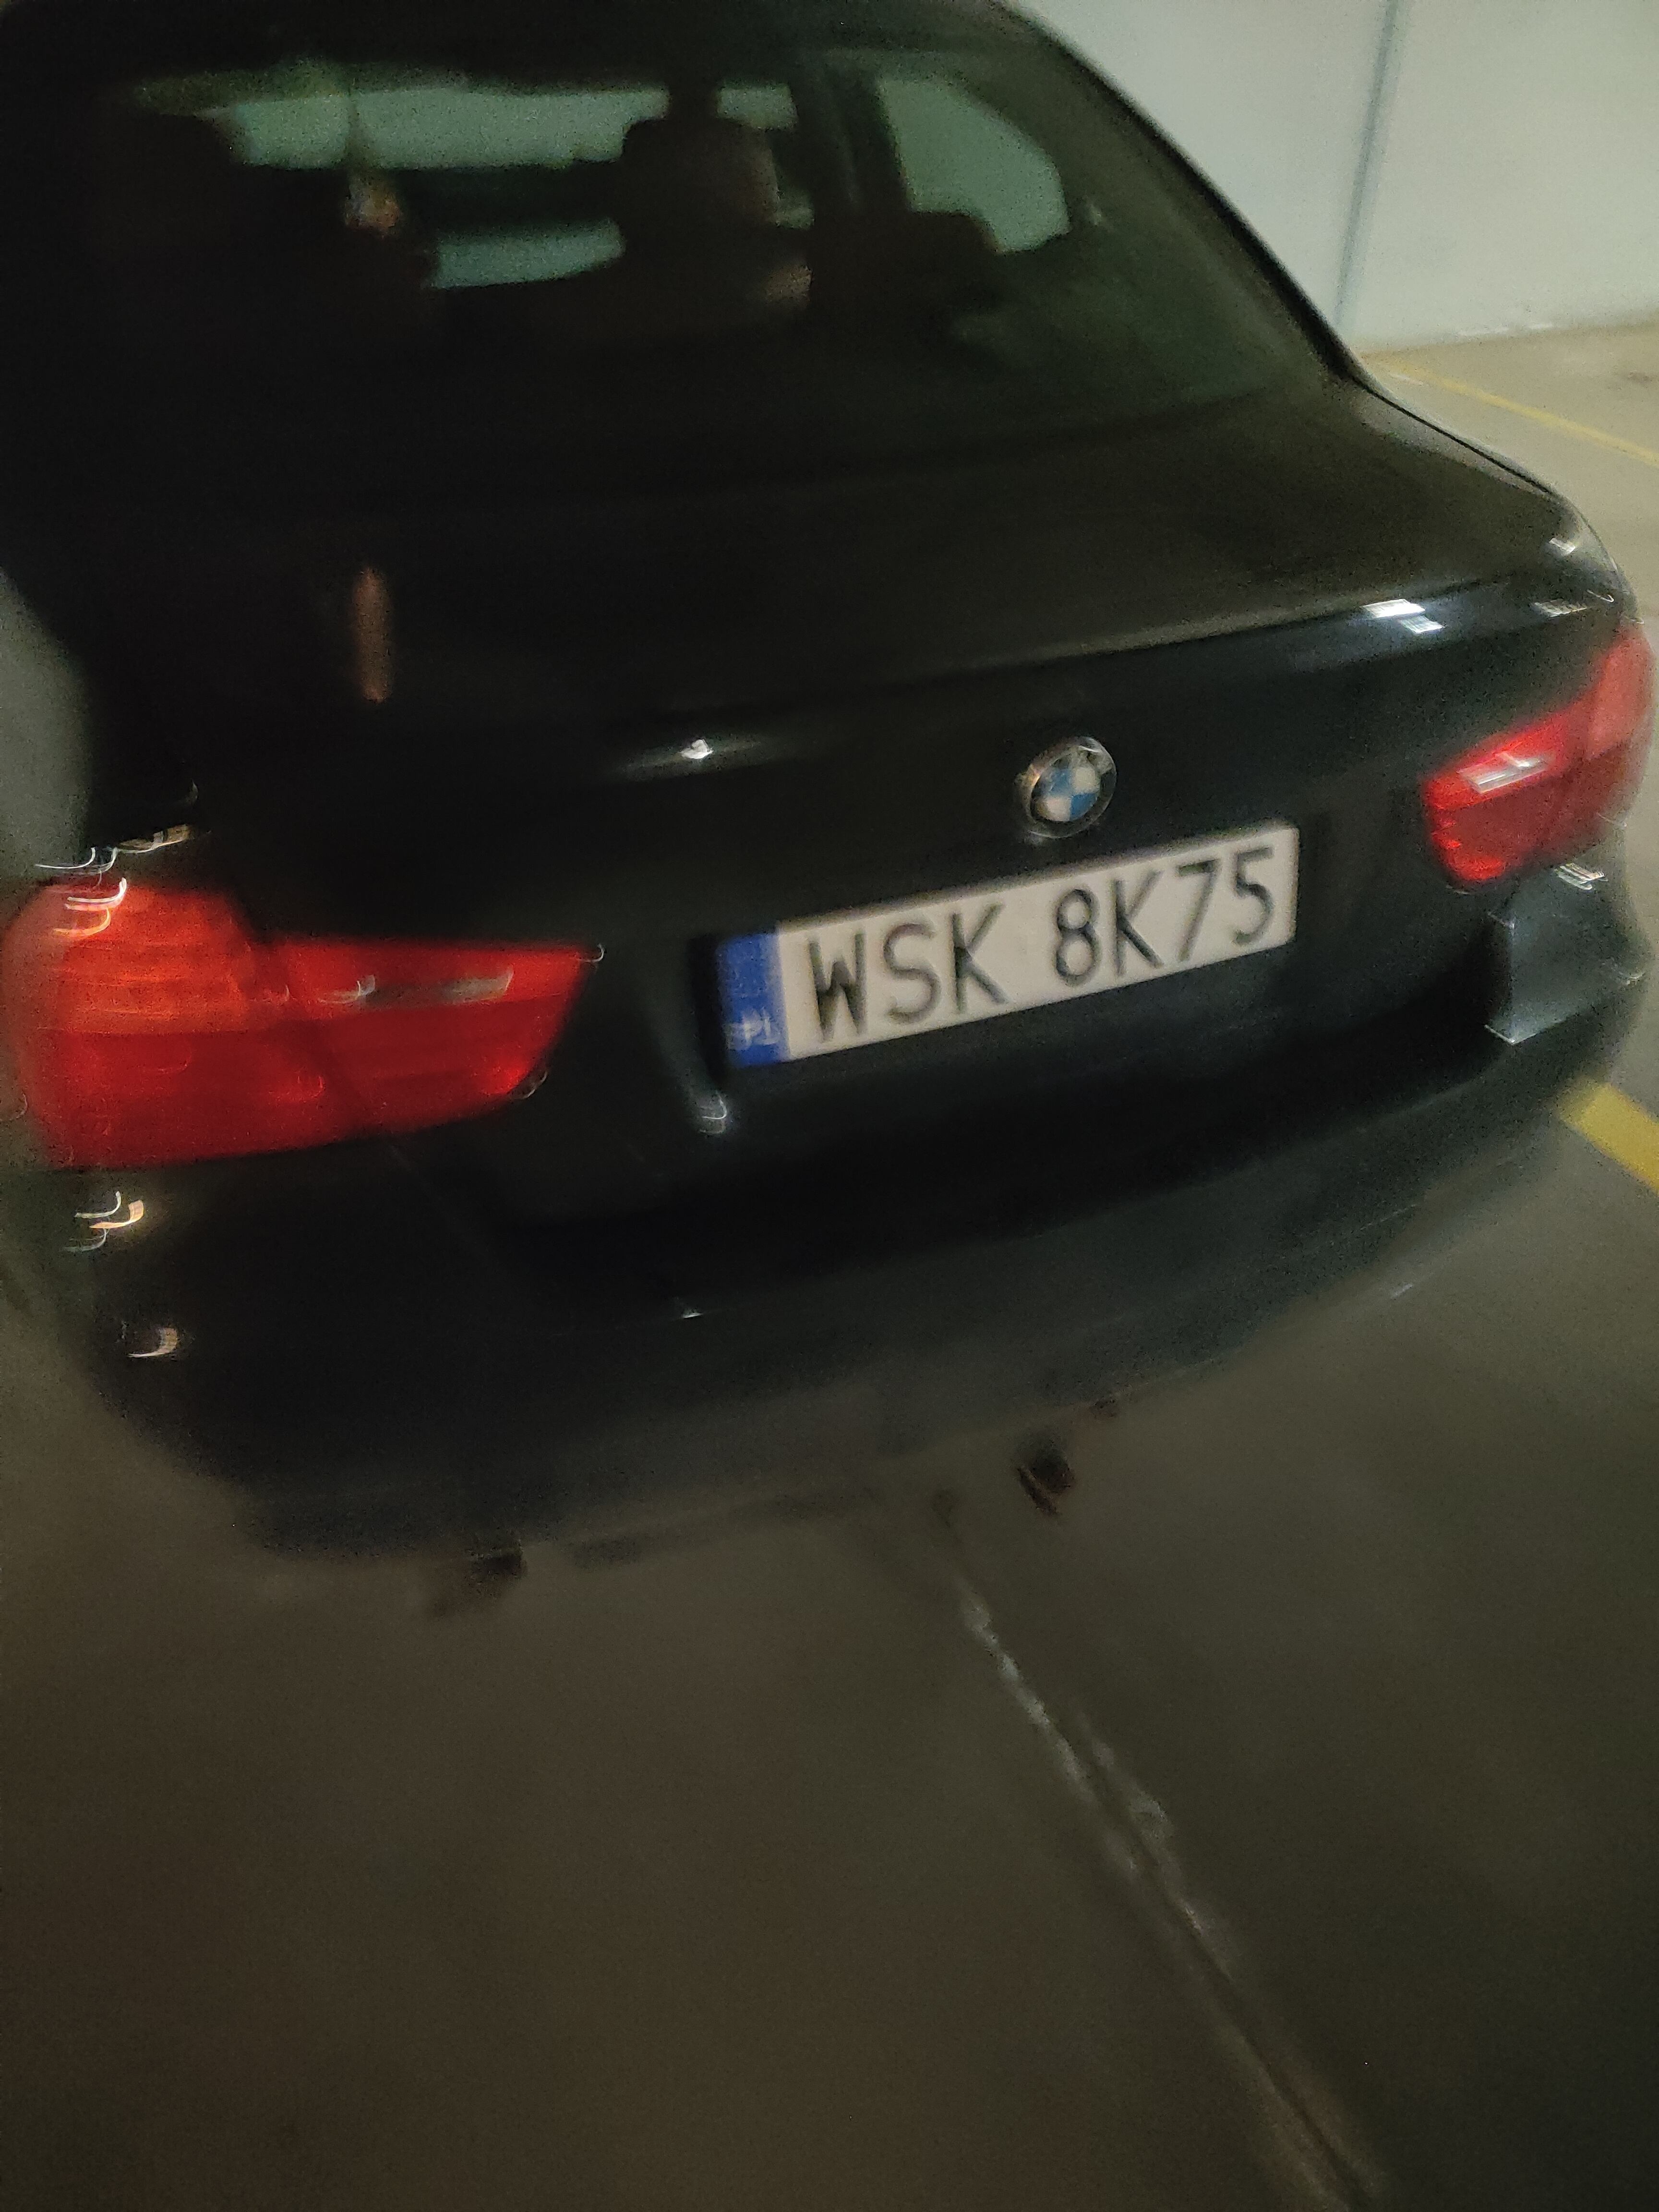number_plate: (719, 825, 1319, 1075)
